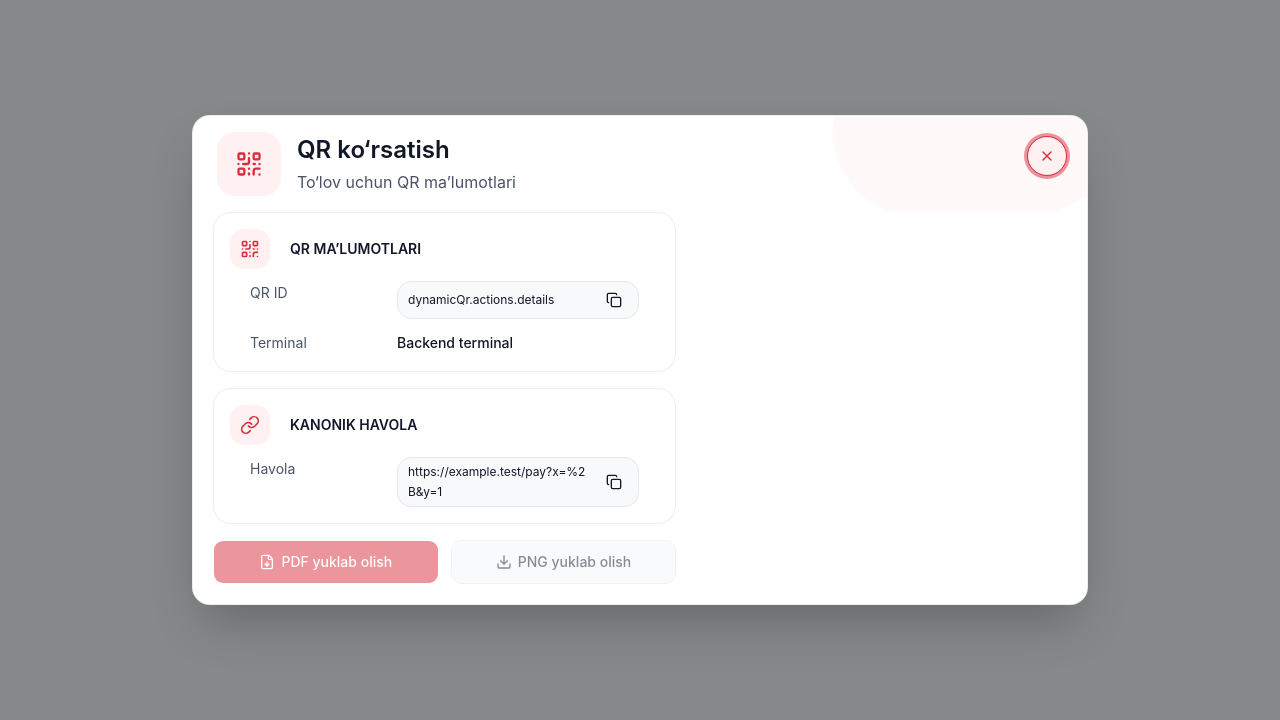
Scenario: keeps QR display/link/copy state and fixed bilingual poster content during locale switching
Click the button named "Havolani nusxalash": (614, 482) [600,468,628,496]
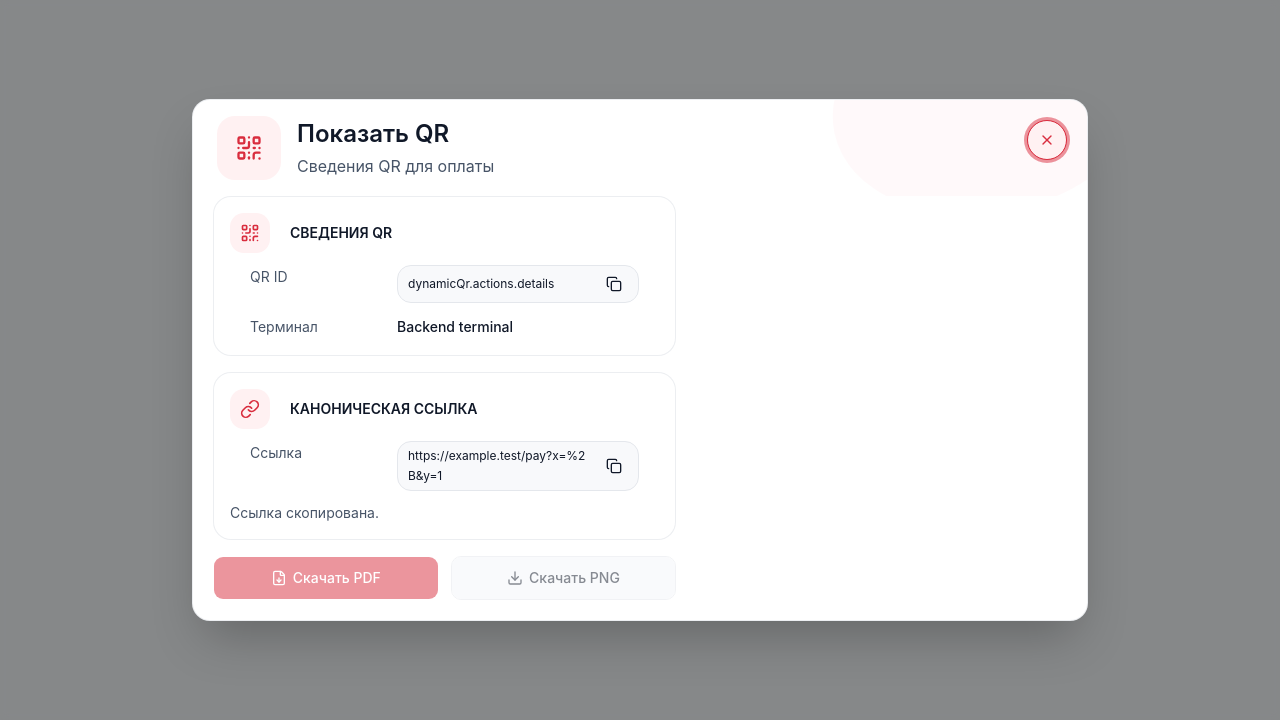
Expected: the text "Ссылка скопирована." is shown, [230,504,379,521]
